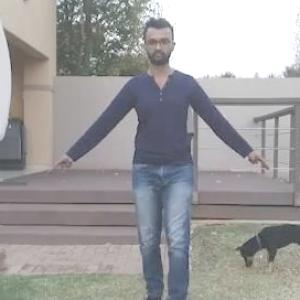land: (84, 38, 246, 294)
